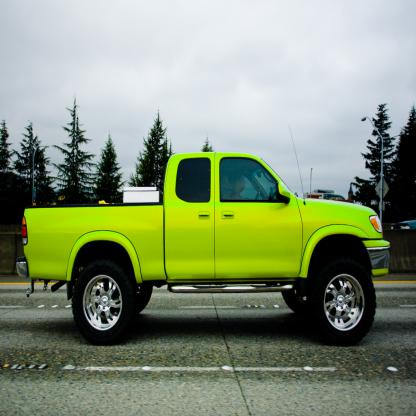Truck: (16, 125, 390, 346)
